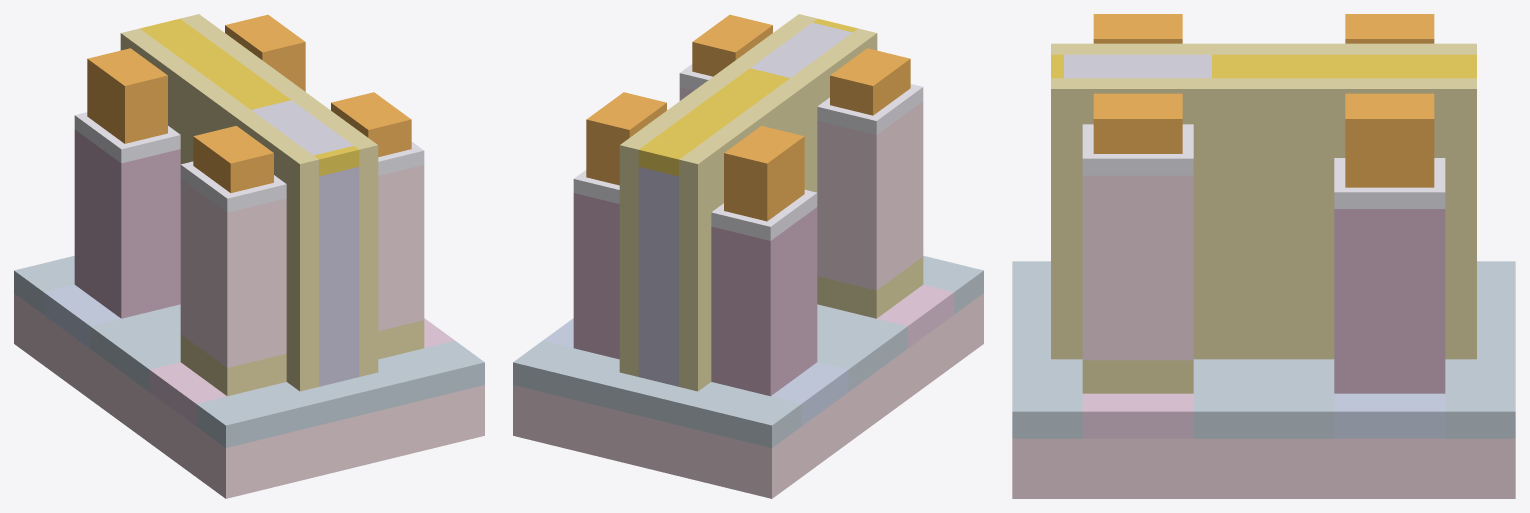
Rendered from ns-sige.glb.
3 views of the same model, side by side, from view 1: azimuth 30°, elevation 25°; view 2: azimuth 150°, elevation 25°; view 3: azimuth 270°, elevation 25° (orthographic). The views are drawn at different scales.
Visible parts, largest first — view 1: n_substrate, p_epi_source, n_epi_source, n_sti, n_spacer_source, n_mo, n_epi_drain, p_ni_source, n_spacer_drain, p_substrate, p_sti, n_bdi (+15 smaller); view 2: p_substrate, p_epi_source, n_epi_source, p_sti, p_spacer_source, p_mo, p_epi_drain, p_ni_source, p_spacer_drain, n_substrate, n_sti, n_ni_source (+15 smaller); view 3: b_spacers, p_spacer_drain, n_epi_drain, p_epi_drain, n_spacer_drain, n_substrate, p_substrate, n_sti, p_sti, p_ni_drain, n_ni_drain, n_pts (+13 smaller).
Boxes of the visible parts, x1,y1,x2,y2 form: n_substrate: (120,371,484,498); p_epi_source: (74,129,180,318); n_epi_source: (180,179,286,367); n_sti: (120,333,484,447); n_spacer_source: (226,106,318,391); n_mo: (319,167,359,386); n_epi_drain: (378,165,424,330); p_ni_source: (87,48,167,143); n_spacer_drain: (286,91,378,376); p_substrate: (14,293,119,420); p_sti: (14,255,180,370); n_bdi: (180,320,424,396); p_substrate: (513,371,877,498); p_epi_source: (711,207,817,396); n_epi_source: (817,101,923,290); p_sti: (513,333,877,447); p_spacer_source: (679,106,771,391); p_mo: (638,167,678,386); p_epi_drain: (573,193,619,359); p_ni_source: (724,125,804,221); p_spacer_drain: (619,91,711,376); n_substrate: (878,293,983,420); n_sti: (817,255,983,370); n_ni_source: (830,48,910,115); b_spacers: (1225,43,1302,359); p_spacer_drain: (1303,78,1476,359); n_epi_drain: (1082,175,1193,360); p_epi_drain: (1334,209,1445,393); n_spacer_drain: (1051,78,1224,359); n_substrate: (1012,438,1263,498); p_substrate: (1264,438,1515,498); n_sti: (1012,261,1263,438); p_sti: (1264,261,1515,438); p_ni_drain: (1345,93,1434,187); n_ni_drain: (1093,93,1182,153); n_pts: (1082,393,1193,438).
Bounding box in the file's own units: 96 × 106 × 136.
